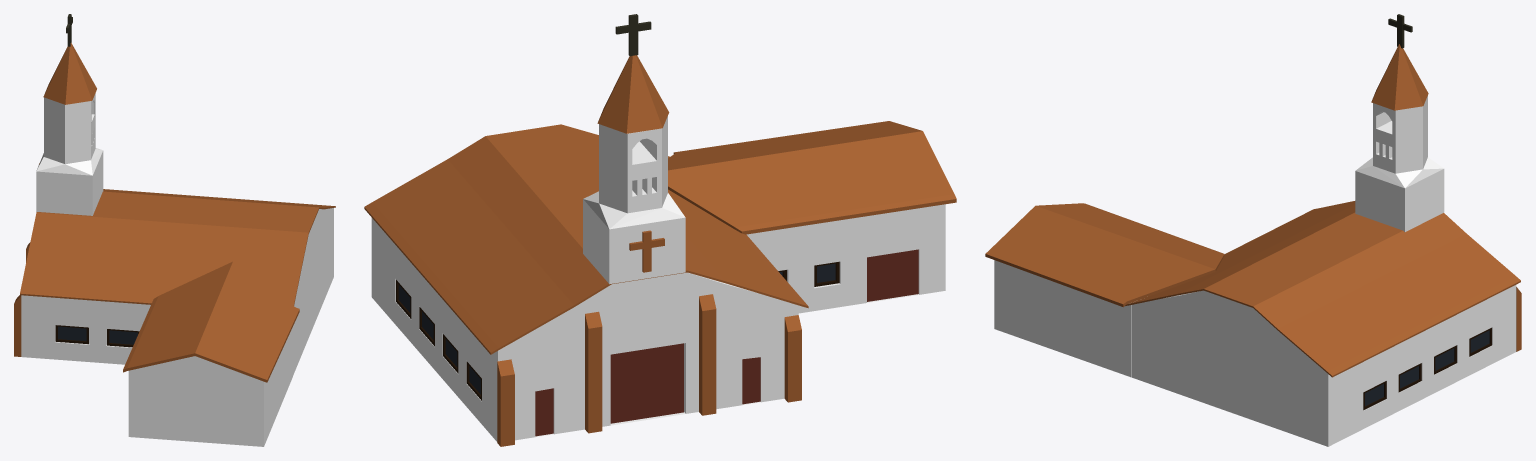
File: iglesia.gltf
The picture shows the model from 3 angles, left to right: view 1: azimuth 30°, elevation 25°; view 2: azimuth 150°, elevation 25°; view 3: azimuth 270°, elevation 25°; orthographic projection. The views are drawn at different scales.
Visible parts, largest first — view 1: Estructura, Tejado, Tejado.001, Cupula, Pilar 3, Panel, Panel.001; view 2: Estructura, Tejado, Tejado.001, Puerta, Cupula, Puerta2, Pilar 2, Pilar 4, Pilar, Pilar 3, Puerta4, Puerta3 (+2 smaller); view 3: Estructura, Tejado, Tejado.001, Cupula.
Boxes of the visible parts, left/top/right/bottom form: Estructura: left=21, top=93, right=333, bottom=446; Tejado: left=20, top=189, right=335, bottom=305; Tejado.001: left=123, top=261, right=299, bottom=382; Cupula: left=43, top=42, right=96, bottom=104; Pilar 3: left=14, top=295, right=21, bottom=356; Panel: left=58, top=326, right=86, bottom=341; Panel.001: left=109, top=330, right=137, bottom=344; Estructura: left=371, top=116, right=945, bottom=441; Tejado: left=364, top=124, right=808, bottom=354; Tejado.001: left=668, top=121, right=956, bottom=234; Puerta: left=610, top=343, right=683, bottom=423; Cupula: left=597, top=55, right=669, bottom=133; Puerta2: left=867, top=249, right=918, bottom=301; Pilar 2: left=585, top=311, right=602, bottom=433; Pilar 4: left=699, top=294, right=716, bottom=415; Pilar: left=497, top=359, right=514, bottom=446; Pilar 3: left=784, top=315, right=801, bottom=402; Puerta4: left=535, top=388, right=553, bottom=436; Puerta3: left=742, top=357, right=760, bottom=404; Estructura: left=994, top=96, right=1516, bottom=446; Tejado: left=1125, top=201, right=1520, bottom=377; Tejado.001: left=985, top=203, right=1224, bottom=307; Cupula: left=1371, top=44, right=1428, bottom=110.
Bounding box in the file's own units: 5.82 × 4.95 × 7.71.
